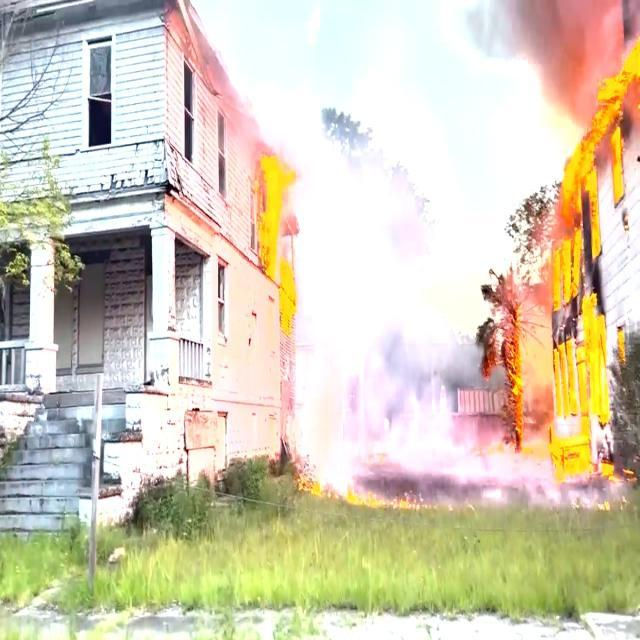Fire: (537, 124, 607, 480), (596, 61, 640, 114), (510, 312, 527, 446), (263, 160, 279, 286), (284, 258, 296, 330)
Smoke: (300, 135, 440, 462), (488, 0, 582, 101)
